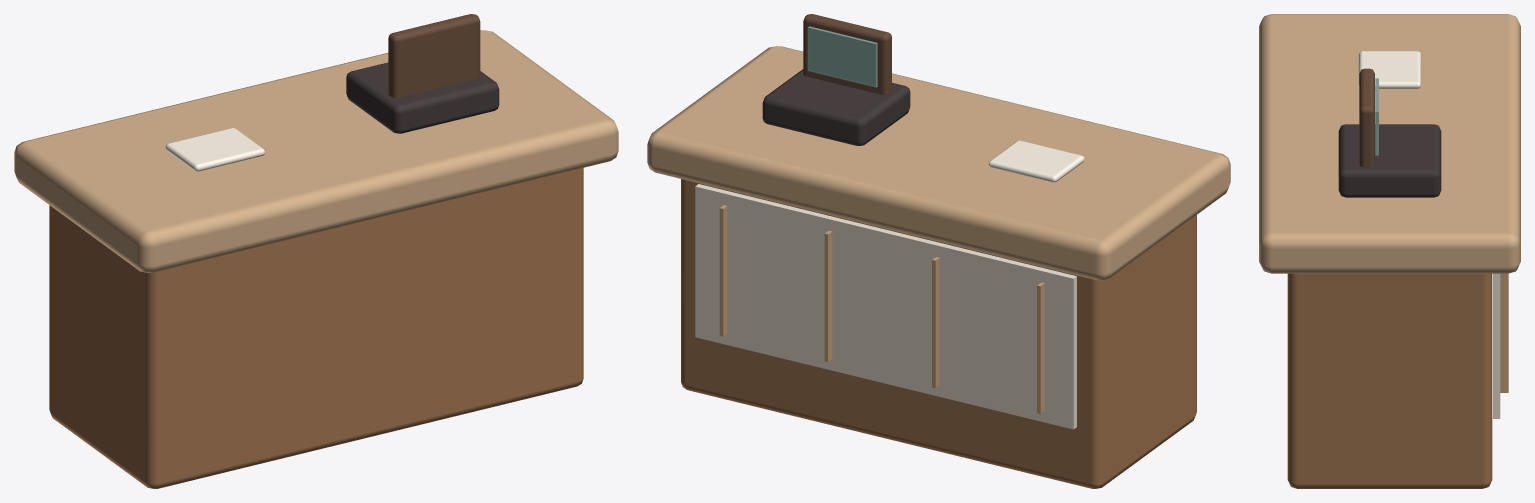
The model's file is counter-w1_1b.glb.
The picture shows the model from 3 angles, left to right: view 1: azimuth 30°, elevation 25°; view 2: azimuth 150°, elevation 25°; view 3: azimuth 270°, elevation 25°; orthographic projection. The views are drawn at different scales.
Parts seen in each view (by area): view 1: counter-w1_1b.material1, counter-w1_1b.material0, counter-w1_1b.material5, counter-w1_1b.material4, counter-w1_1b.material7; view 2: counter-w1_1b.material0, counter-w1_1b.material2, counter-w1_1b.material1, counter-w1_1b.material4, counter-w1_1b.material3, counter-w1_1b.material6, counter-w1_1b.material5, counter-w1_1b.material7; view 3: counter-w1_1b.material0, counter-w1_1b.material1, counter-w1_1b.material4, counter-w1_1b.material7, counter-w1_1b.material5, counter-w1_1b.material2, counter-w1_1b.material3, counter-w1_1b.material6.
Part boxes in pixels (bbox=[...]): counter-w1_1b.material1: bbox=[49, 168, 583, 488]; counter-w1_1b.material0: bbox=[14, 30, 618, 272]; counter-w1_1b.material5: bbox=[388, 14, 480, 97]; counter-w1_1b.material4: bbox=[346, 62, 499, 133]; counter-w1_1b.material7: bbox=[165, 128, 264, 171]; counter-w1_1b.material0: bbox=[647, 46, 1230, 280]; counter-w1_1b.material2: bbox=[695, 184, 1076, 429]; counter-w1_1b.material1: bbox=[681, 179, 1196, 488]; counter-w1_1b.material4: bbox=[762, 69, 910, 145]; counter-w1_1b.material3: bbox=[719, 205, 1044, 413]; counter-w1_1b.material6: bbox=[807, 26, 877, 87]; counter-w1_1b.material5: bbox=[803, 14, 891, 94]; counter-w1_1b.material7: bbox=[988, 140, 1084, 182]; counter-w1_1b.material0: bbox=[1259, 14, 1520, 273]; counter-w1_1b.material1: bbox=[1287, 273, 1492, 488]; counter-w1_1b.material4: bbox=[1338, 124, 1441, 197]; counter-w1_1b.material7: bbox=[1358, 51, 1421, 88]; counter-w1_1b.material5: bbox=[1359, 68, 1374, 167]; counter-w1_1b.material2: bbox=[1493, 273, 1500, 418]; counter-w1_1b.material3: bbox=[1500, 273, 1508, 392]; counter-w1_1b.material6: bbox=[1375, 78, 1378, 155].
Bounding box in the file's own units: 1.9 × 1.37 × 0.92.
